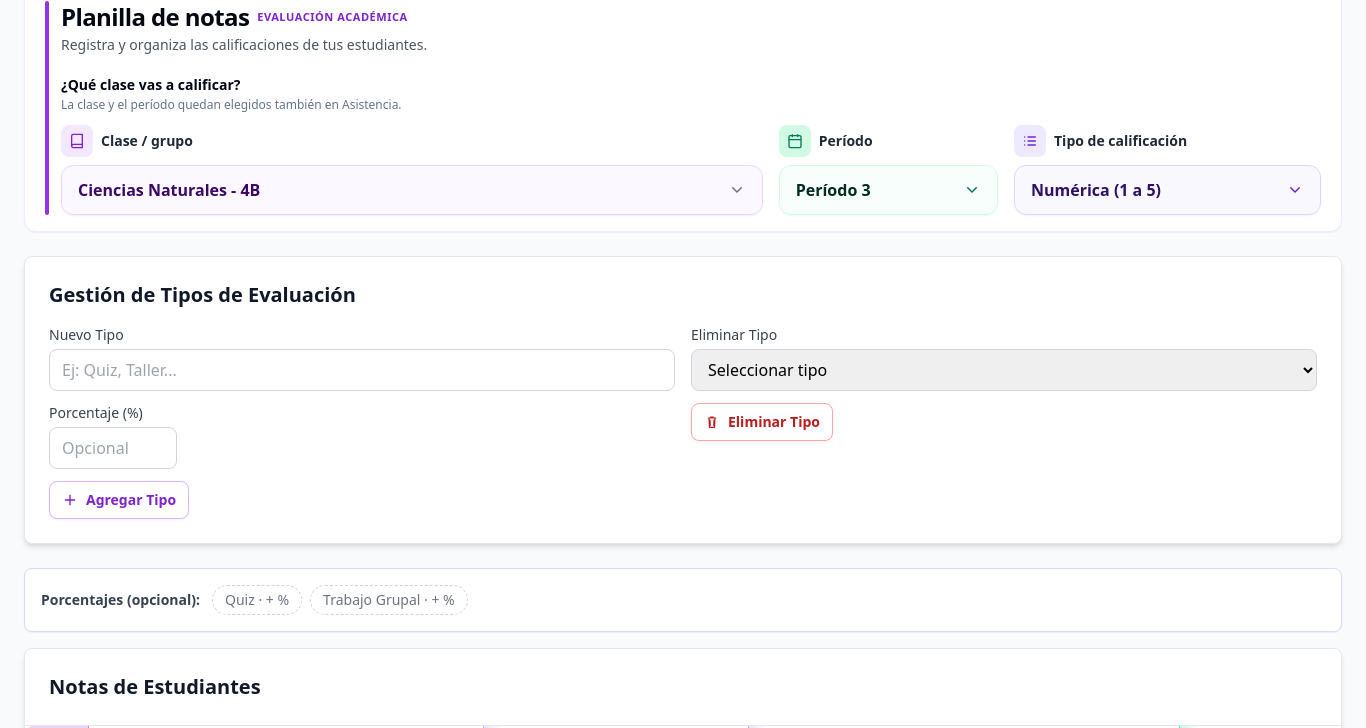
flujo de planilla del profesor › elimina un tipo de evaluación tras confirmar y codifica espacios en la URL
The image size is (1366, 728).
Expected: the dropdown showing "Ciencias Naturales - 4B" is shown, [61,165,763,215]
Select "Trabajo Grupal" in the 4th dropdown at (1004, 370), box [691,349,1317,391]
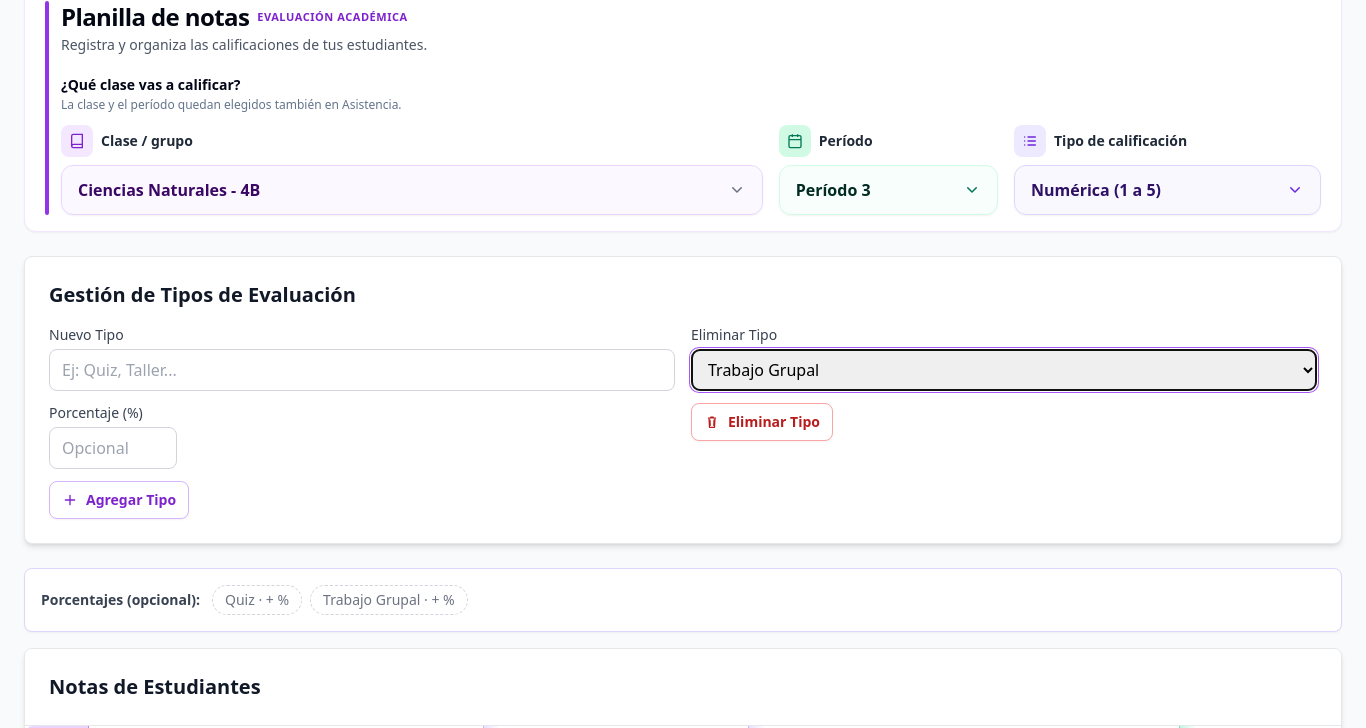
Click the button "Eliminar Tipo" at (762, 422), box [691,403,833,441]
(page scrolled)
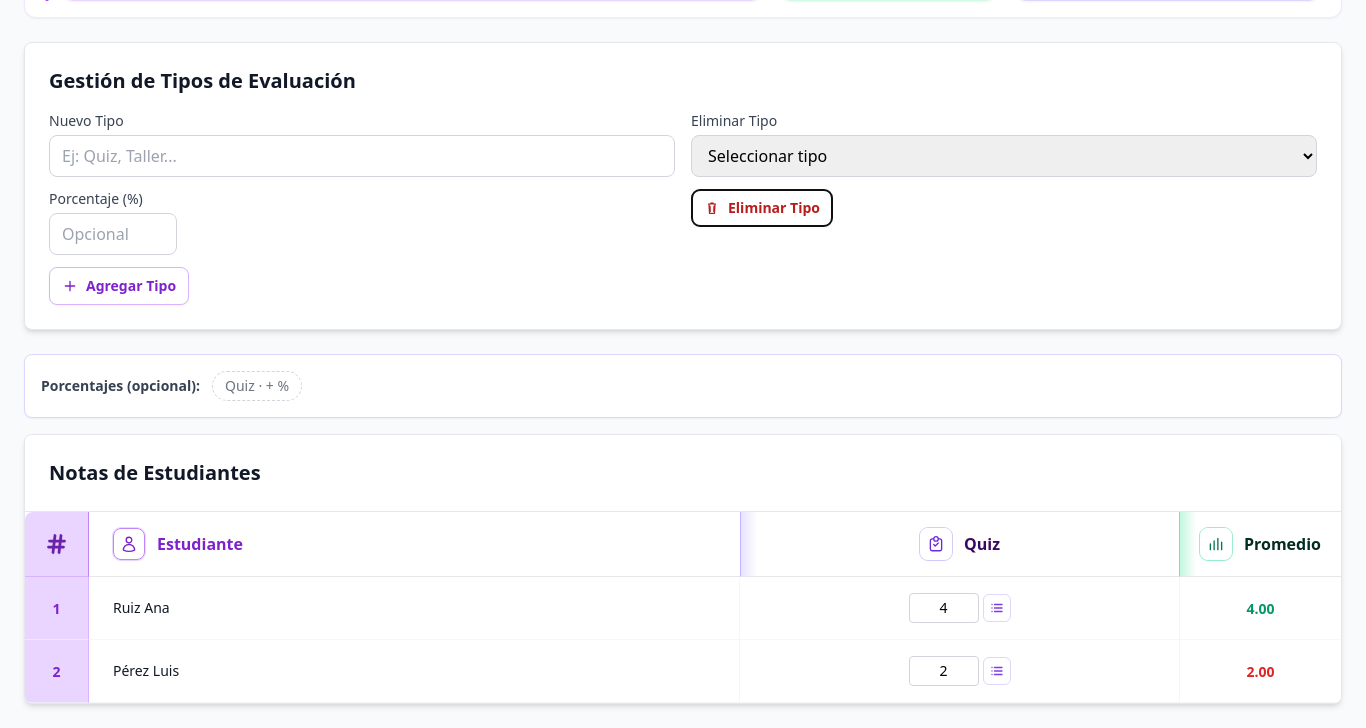
Expected: the text "Quiz" in the row of "Promedio" is shown, [964,533,1000,555]
Result: the button "Trabajo Grupal" is gone
